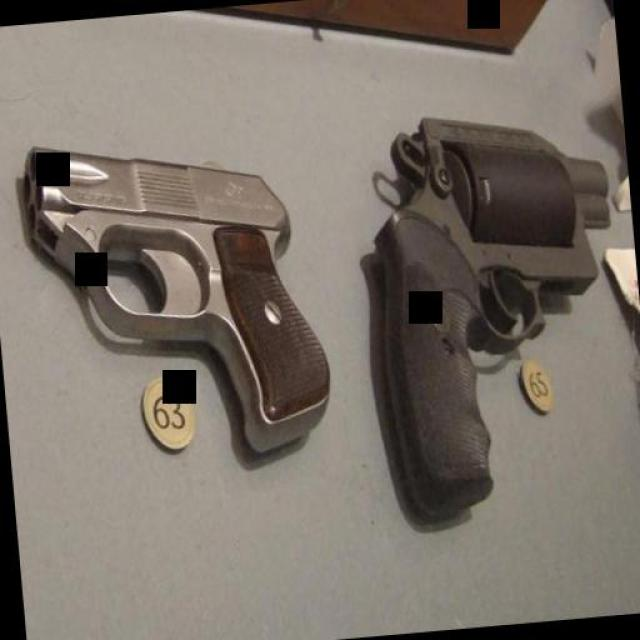gun: (352, 95, 636, 531), (16, 119, 338, 482)
